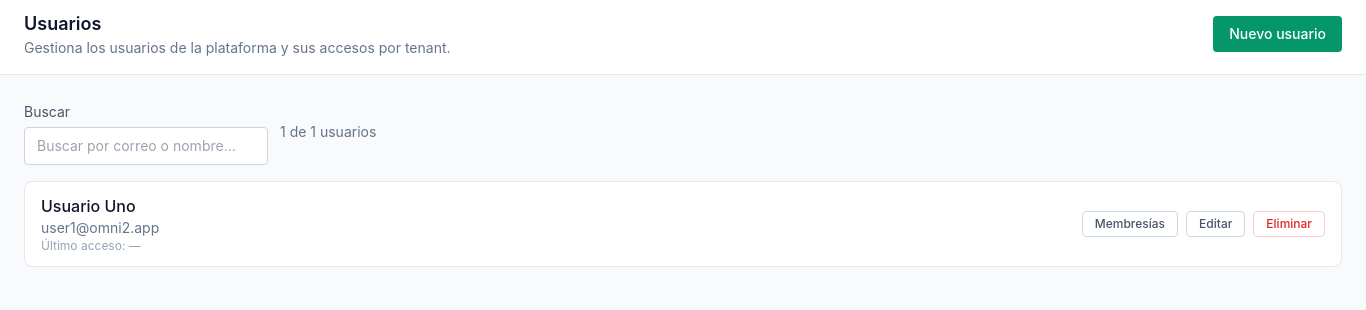
UsersSection › elimina un usuario tras confirmar
Expected: the text "Usuario Uno" is shown, top-left (41, 194), bottom-right (136, 218)
Click the button "Eliminar": coordinates (1289, 224) top-left (1253, 211), bottom-right (1325, 237)
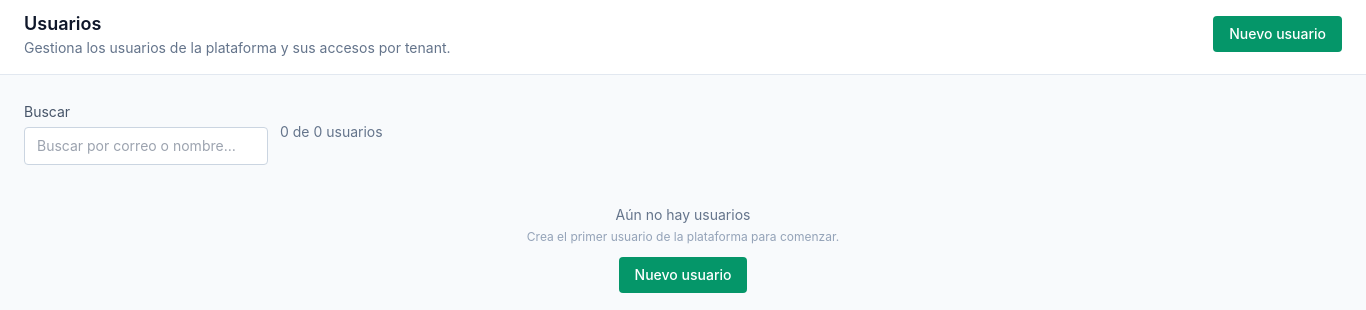
Now the text "Aún no hay usuarios" is shown, box top-left (616, 206), bottom-right (750, 223)
